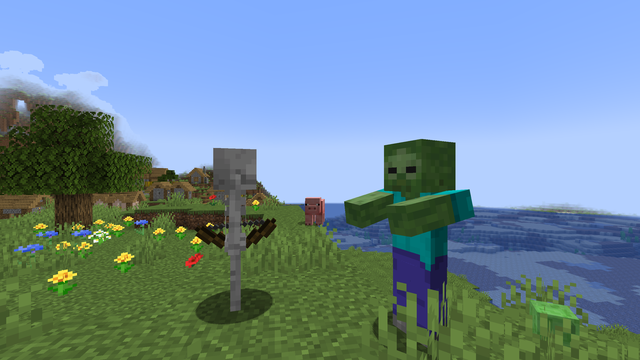cochons: (302, 198, 329, 225)
slimes: (523, 299, 582, 351)
squelettes: (205, 148, 260, 317)
zombies: (380, 144, 463, 355)
